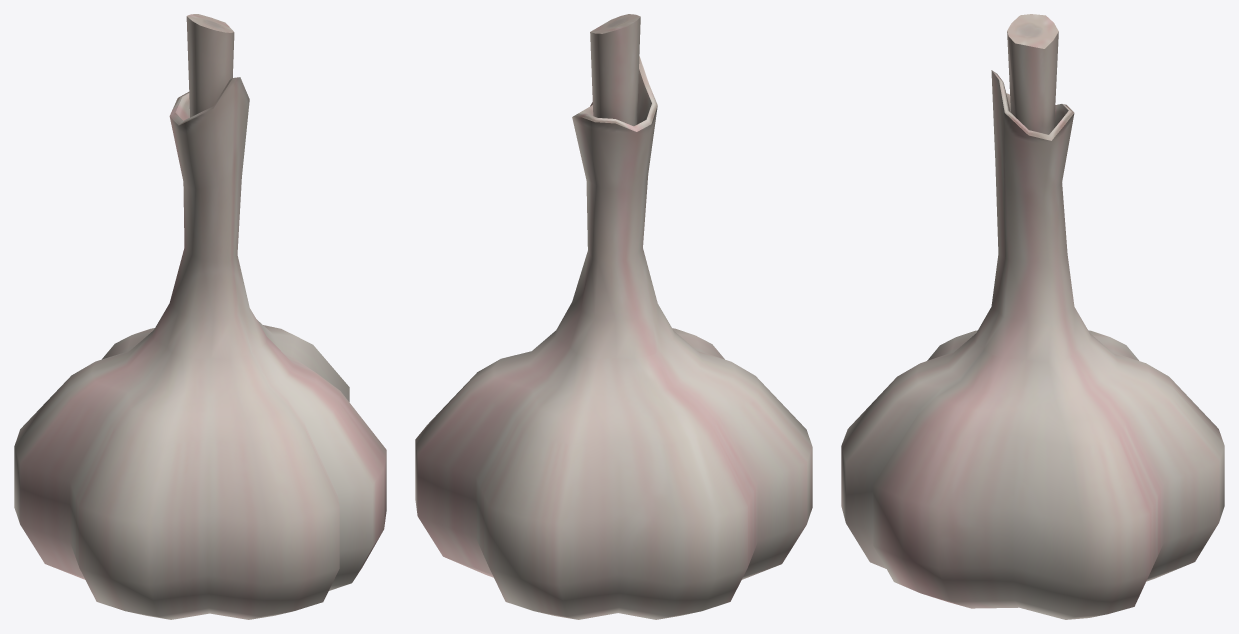
Rendered from Garlic_B.fbx.
3 views of the same model, side by side, from view 1: azimuth 30°, elevation 25°; view 2: azimuth 150°, elevation 25°; view 3: azimuth 270°, elevation 25° (orthographic).
Visible parts, largest first — view 1: U_Garlic_B; view 2: U_Garlic_B; view 3: U_Garlic_B.
Boxes of the visible parts, x1,y1,x2,y2 form: U_Garlic_B: [14, 14, 386, 619]; U_Garlic_B: [415, 14, 812, 619]; U_Garlic_B: [841, 14, 1224, 619].
Bounding box in the file's own units: 24.13 × 40.99 × 25.02.
Materials: 1 (1 with a texture image).
